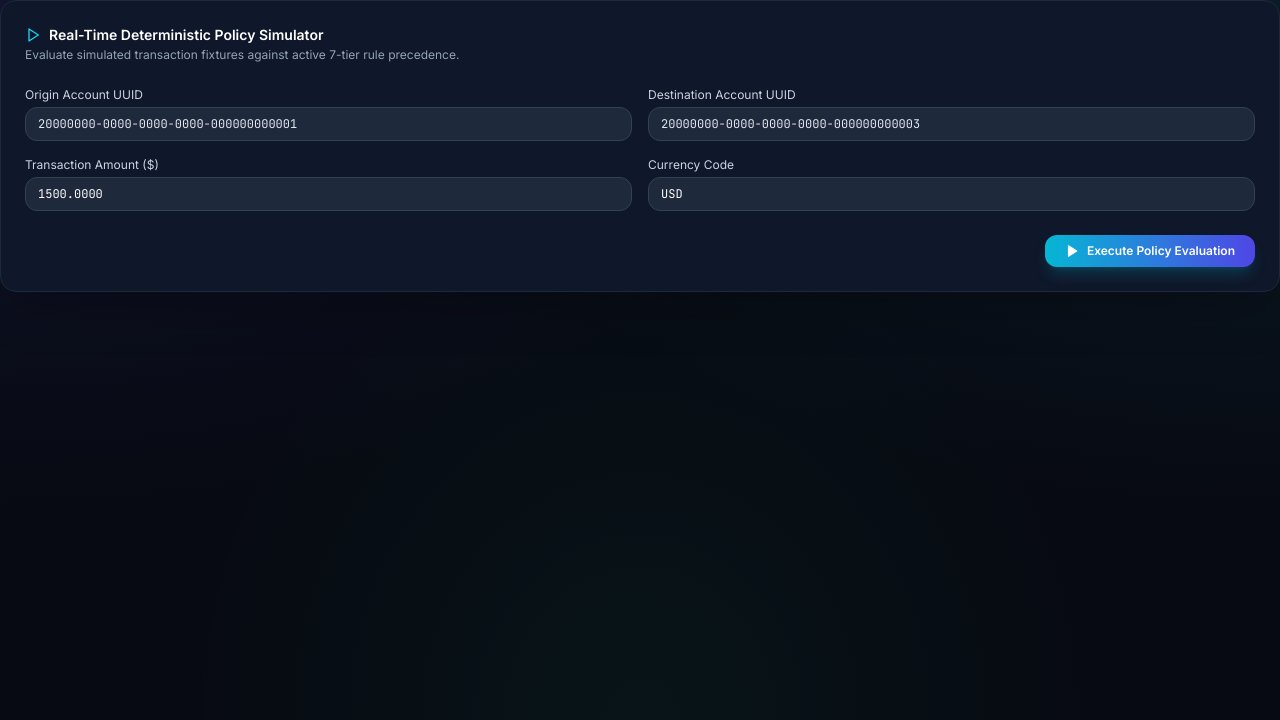
Test: PolicySimulator Interactive Component › renders input fields, simulates evaluation, and displays deterministic ALLOW decision
Expected: the text "Execute Policy Evaluation" is shown, [1087,243,1235,259]
# Change amount
Replace the text in the field labelled "Transaction Amount ($)" with "250.0000" at (328, 194), box [25,177,632,211]
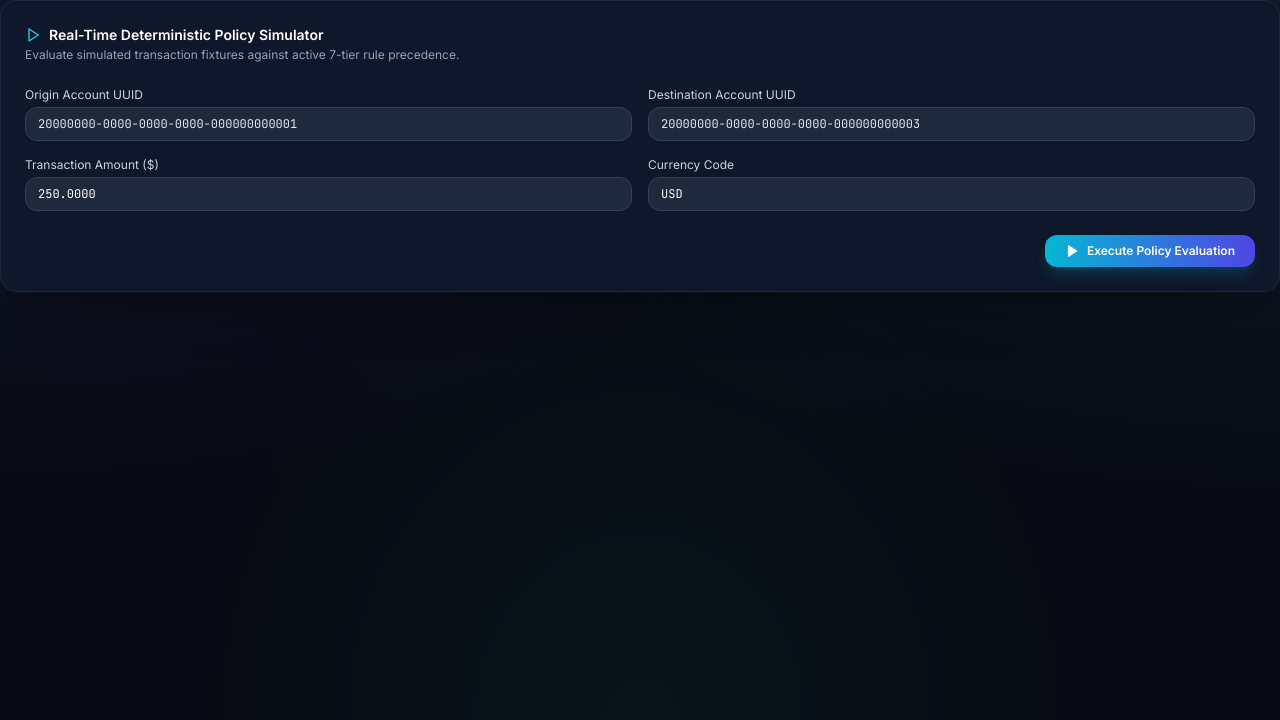
# Execute evaluation
Click the button "Execute Policy Evaluation" at (1150, 251), box [1045,235,1255,267]
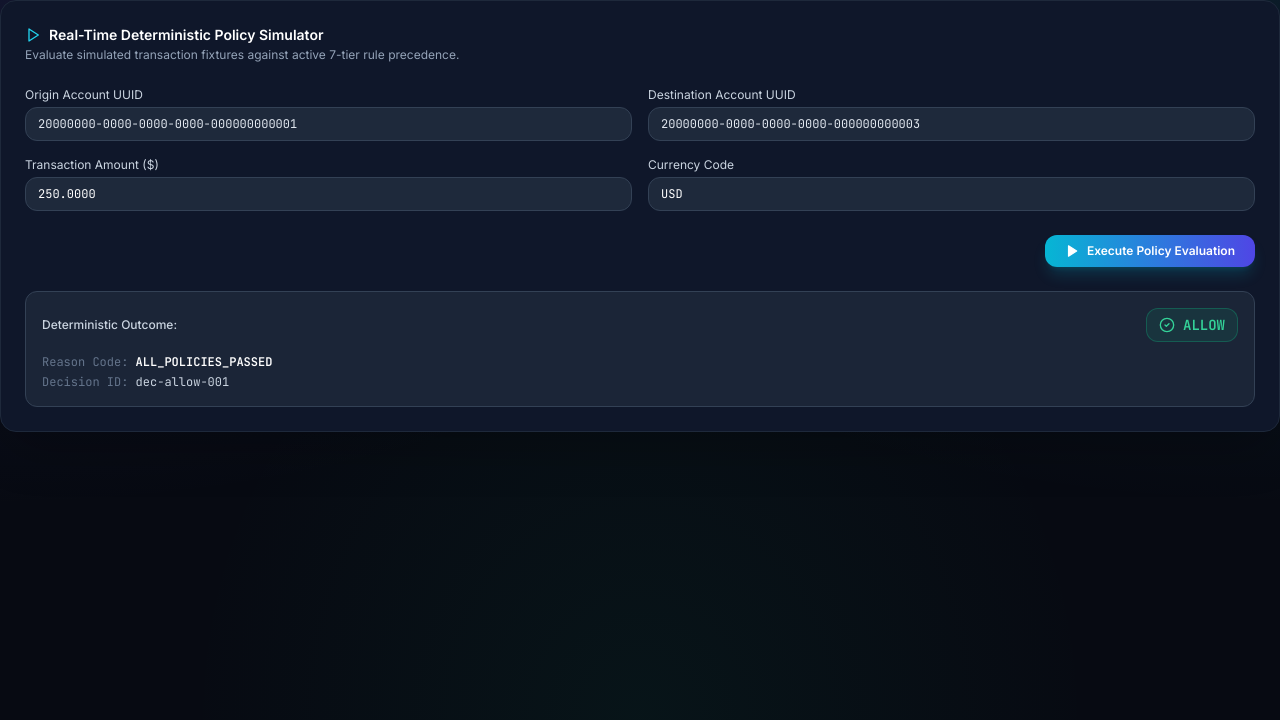
Result: the text "ALLOW" is shown at [1183,315,1225,335]
Result: the text "ALL_POLICIES_PASSED" is shown at [136,354,272,370]
Result: the text "dec-allow-001" is shown at [136,374,229,390]
